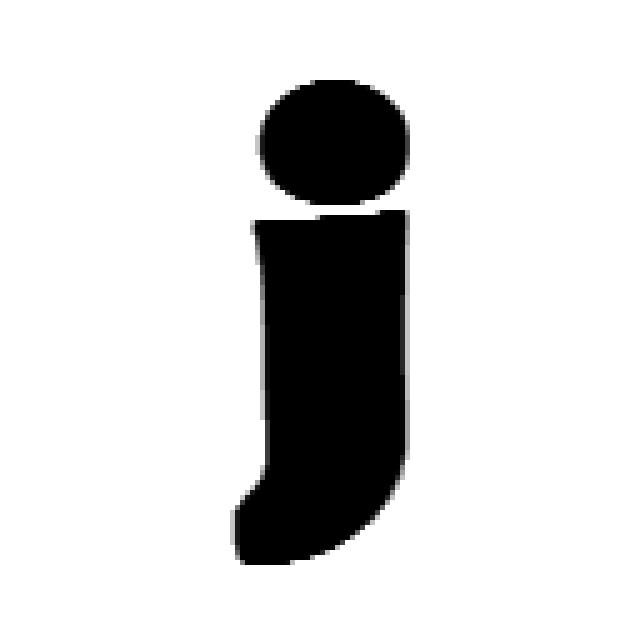J: (225, 70, 415, 565)
